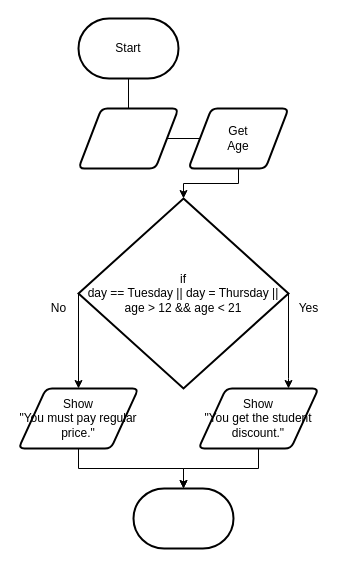
Image size: 345x566. Some labels were removed from this diagram. Here are the shapes that lost their labels. From the top down, the centre of each, then its label:
At pixel 128 138: "Get Day".
At pixel 183 518: "Stop".
